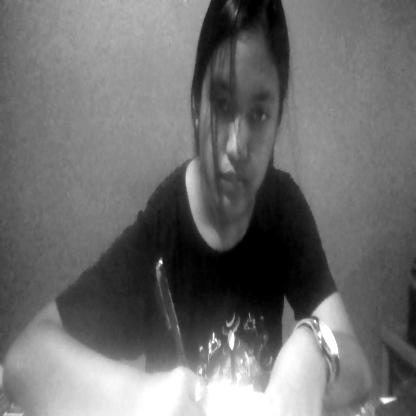Normal: (190, 0, 291, 233)
